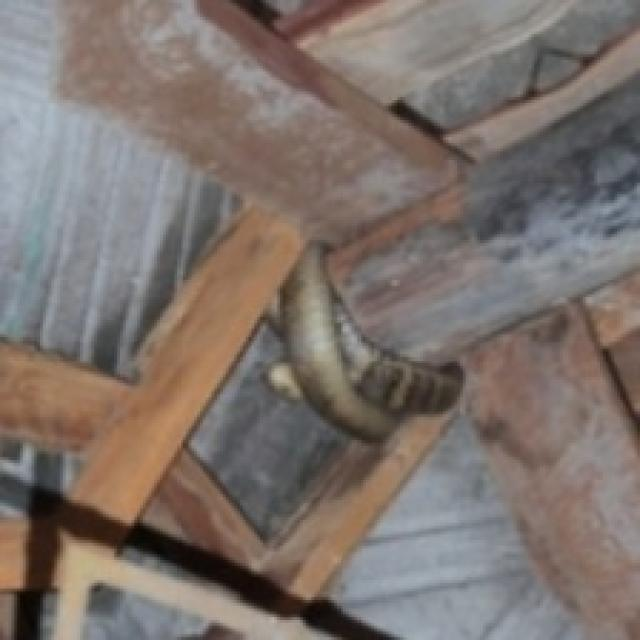king cobra: (280, 243, 460, 437)
